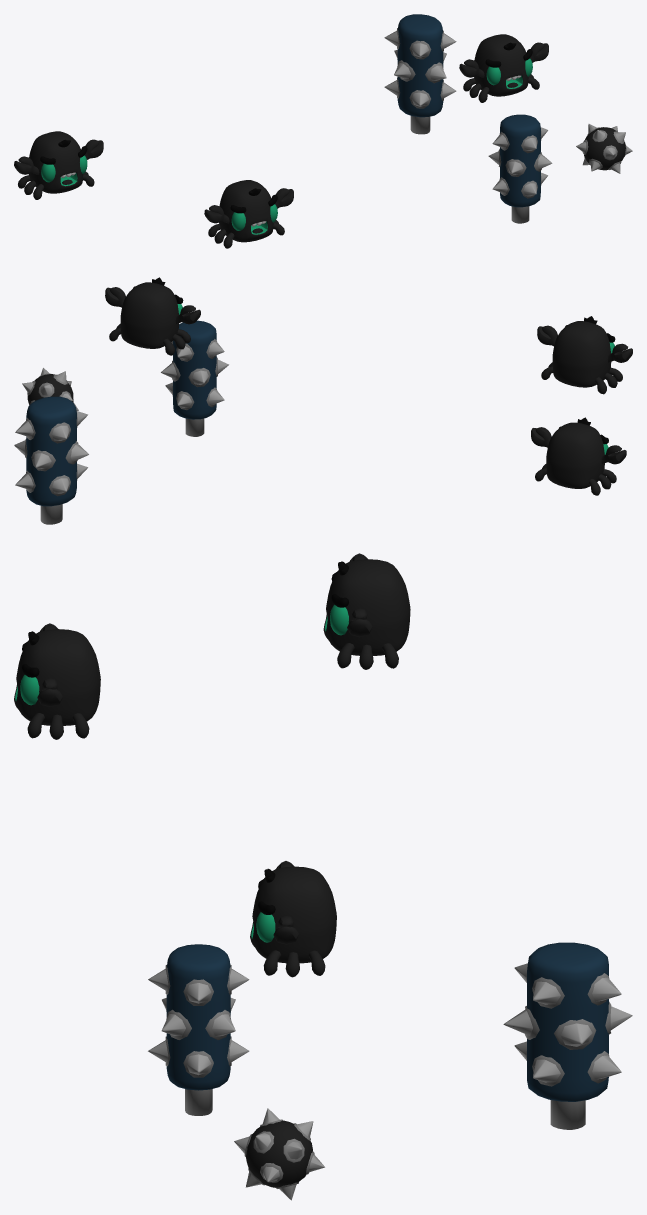
File: Animacion_derecha.glb
3 views of the same model, one above another, from view 1: azimuth 30°, elevation 25°; view 2: azimuth 150°, elevation 25°; view 3: azimuth 270°, elevation 25° (orthographic). The views are drawn at different scales.
Visible parts, largest first — view 1: Hazard_Cylinder.001, Hazard_Cylinder, Crab.003, Crab.002, Crab.001, SpikyBall; view 2: Hazard_Cylinder.001, Hazard_Cylinder, Crab.001, Crab.003, Crab.002, SpikyBall; view 3: Hazard_Cylinder.001, Hazard_Cylinder, Crab.002, Crab.003, Crab.001, SpikyBall.
Part boxes in pixels (x1=…): Hazard_Cylinder.001: x1=384, y1=14, x2=456, y2=134; Hazard_Cylinder: x1=488, y1=114, x2=552, y2=223; Crab.003: x1=204, y1=180, x2=293, y2=248; Crab.002: x1=14, y1=131, x2=103, y2=199; Crab.001: x1=459, y1=34, x2=548, y2=102; SpikyBall: x1=576, y1=124, x2=632, y2=173; Hazard_Cylinder.001: x1=14, y1=396, x2=88, y2=524; Hazard_Cylinder: x1=161, y1=320, x2=228, y2=436; Crab.001: x1=105, y1=277, x2=200, y2=355; Crab.003: x1=537, y1=316, x2=632, y2=394; Crab.002: x1=531, y1=417, x2=626, y2=495; SpikyBall: x1=22, y1=368, x2=78, y2=410; Hazard_Cylinder.001: x1=503, y1=942, x2=632, y2=1129; Hazard_Cylinder: x1=148, y1=944, x2=249, y2=1115; Crab.002: x1=323, y1=553, x2=410, y2=669; Crab.003: x1=14, y1=623, x2=100, y2=739; Crab.001: x1=250, y1=861, x2=336, y2=977; SpikyBall: x1=234, y1=1108, x2=324, y2=1200.
Bounding box in the file's own units: 19.32 × 4.97 × 11.15.
